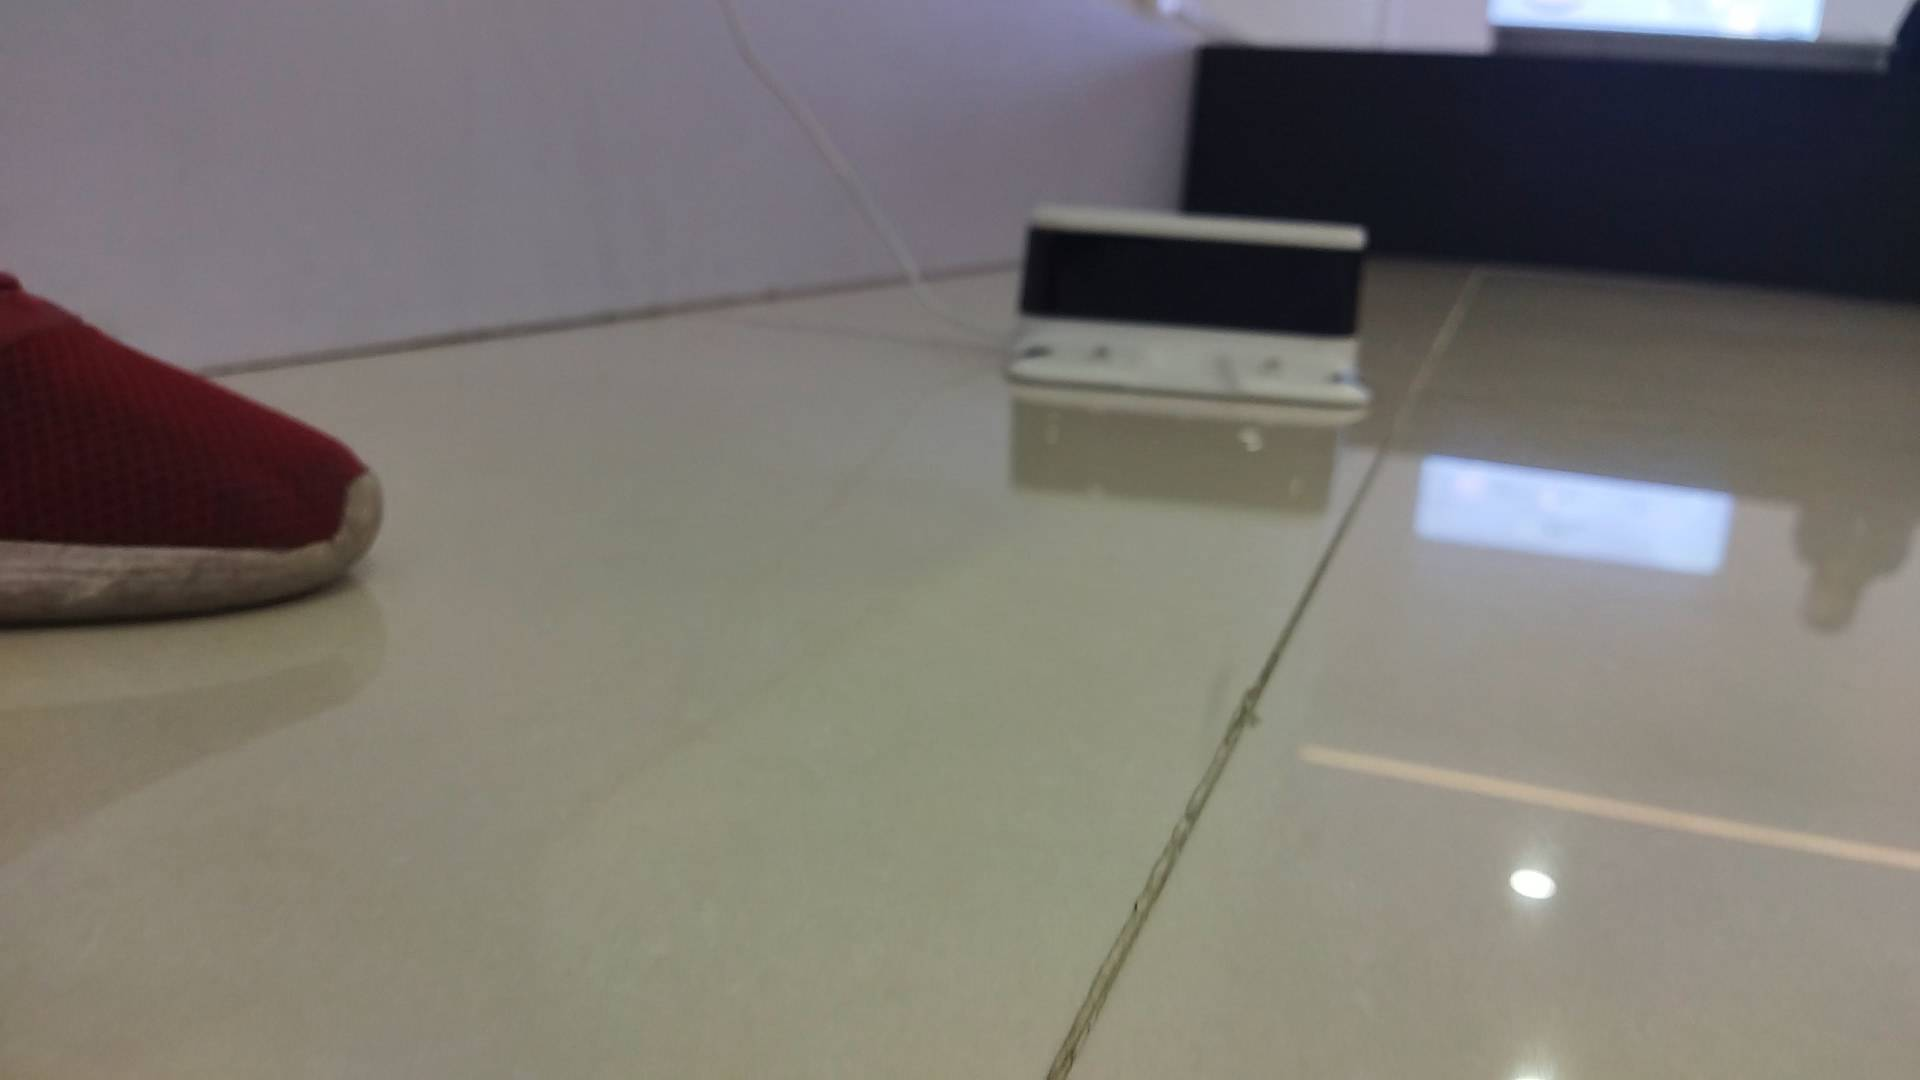recharge seat: (1004, 202, 1379, 410)
